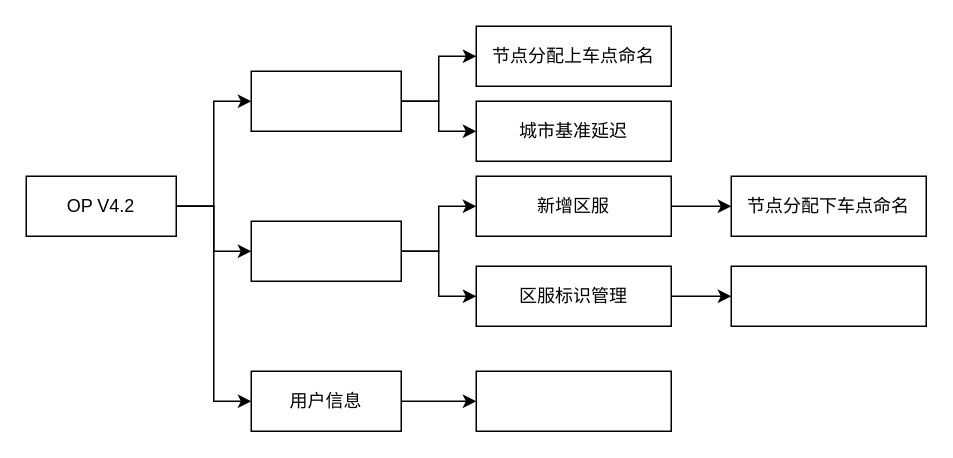
Image size: 953x458. Some labels were removed from this diagram. Here are the shapes that lost their labels. From the top down, the centre of each, then its label:
At pixel 325 100: "信息管理".
At pixel 325 250: "游戏管理".
At pixel 828 295: "ping测IP配置".
At pixel 573 400: "IP库管理和IP归属查询".
